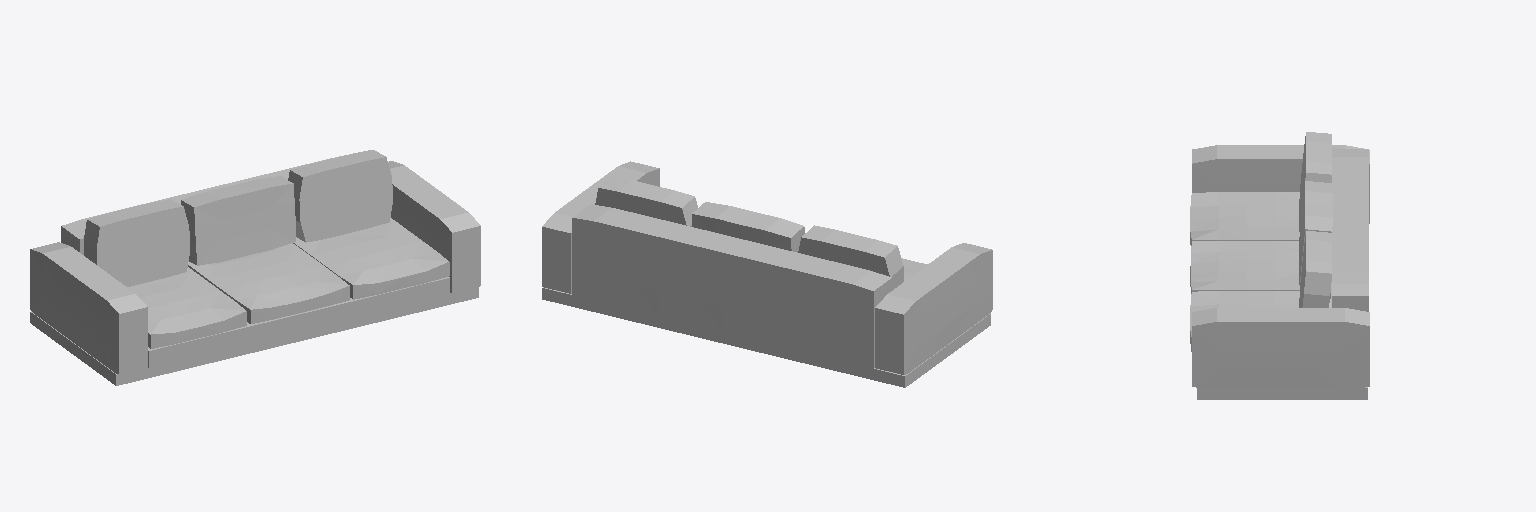
File: sofa_1020.obj
3 renders of one model, left to right at view 1: azimuth 30°, elevation 25°; view 2: azimuth 150°, elevation 25°; view 3: azimuth 270°, elevation 25°, orthographic.
Parts seen in each view (by area): view 1: Sofa; view 2: Sofa; view 3: Sofa.
Boxes of the visible parts, box(x1,y1,x2,y2) form: Sofa: box(30, 150, 480, 385); Sofa: box(542, 161, 992, 387); Sofa: box(1190, 132, 1369, 399).
Size of the model in its own units: 6.16 by 1.8 by 2.64.